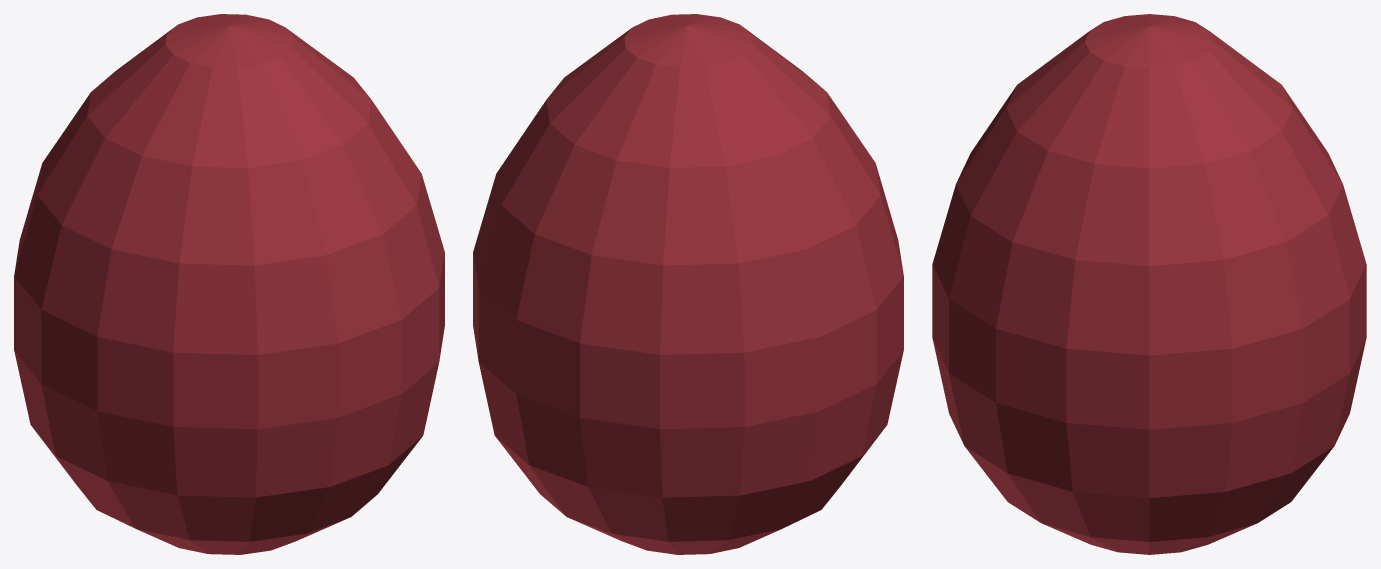
Rendered from DragonEgg.fbx.
The picture shows the model from 3 angles, left to right: view 1: azimuth 30°, elevation 25°; view 2: azimuth 150°, elevation 25°; view 3: azimuth 270°, elevation 25°; orthographic projection.
Visible parts, largest first — view 1: Sphere; view 2: Sphere; view 3: Sphere.
Part boxes in pixels (bbox=[...]): Sphere: bbox=[14, 14, 444, 554]; Sphere: bbox=[473, 14, 903, 554]; Sphere: bbox=[932, 14, 1366, 554].
Size of the model in its own units: 0.387 by 0.5005 by 0.387.
